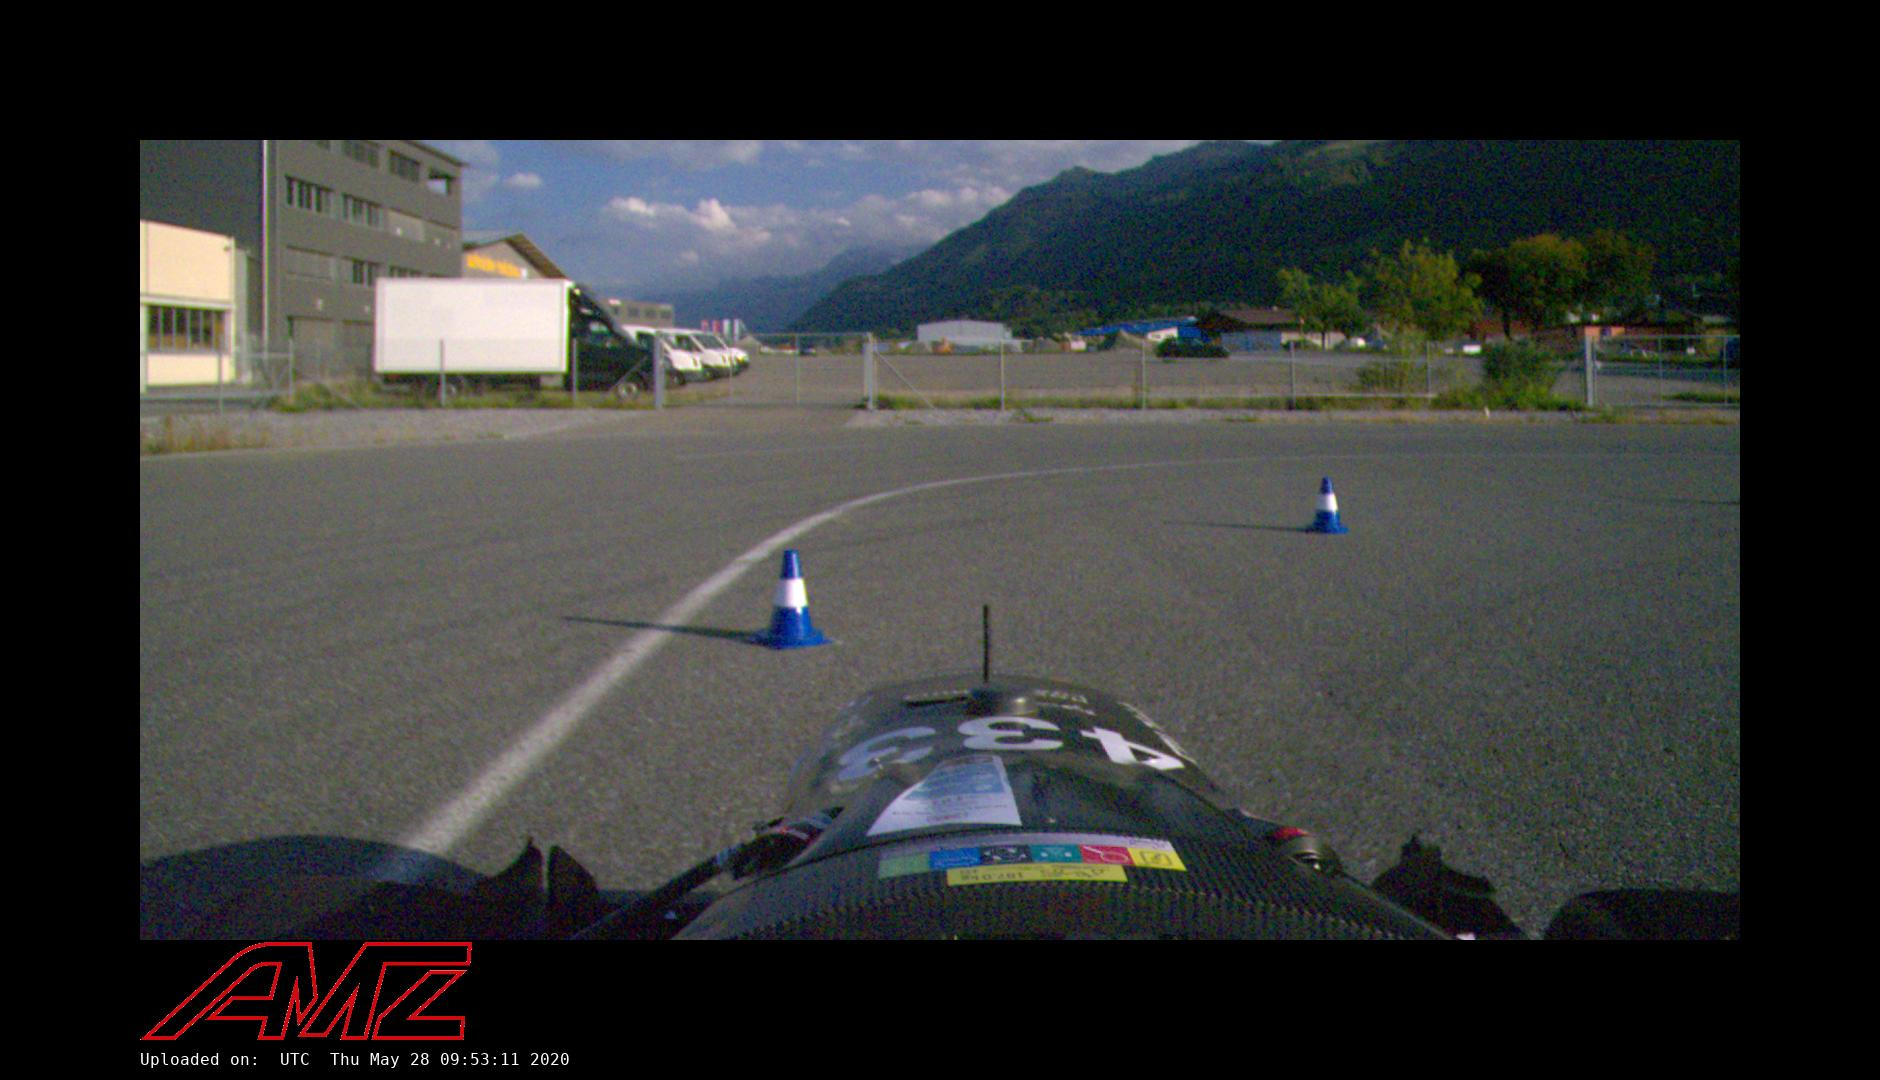blue_cone: (748, 550, 835, 649), (1306, 478, 1348, 534)
